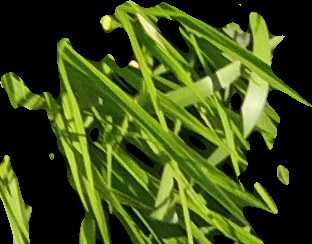grass: (1, 1, 309, 243)
